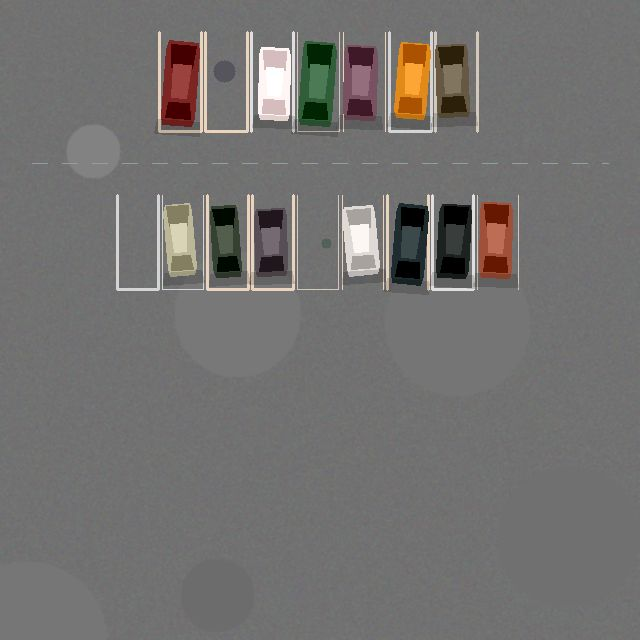space-empty: (205, 32, 247, 131), (117, 195, 158, 289), (297, 195, 338, 289)
space-occupied: (159, 32, 201, 131), (251, 32, 293, 131), (297, 32, 339, 131), (343, 32, 385, 131), (389, 32, 431, 131), (435, 32, 477, 131), (162, 195, 203, 289), (207, 195, 248, 289), (252, 195, 293, 289), (342, 195, 383, 289), (387, 195, 428, 289), (432, 195, 473, 289), (477, 195, 518, 289)
